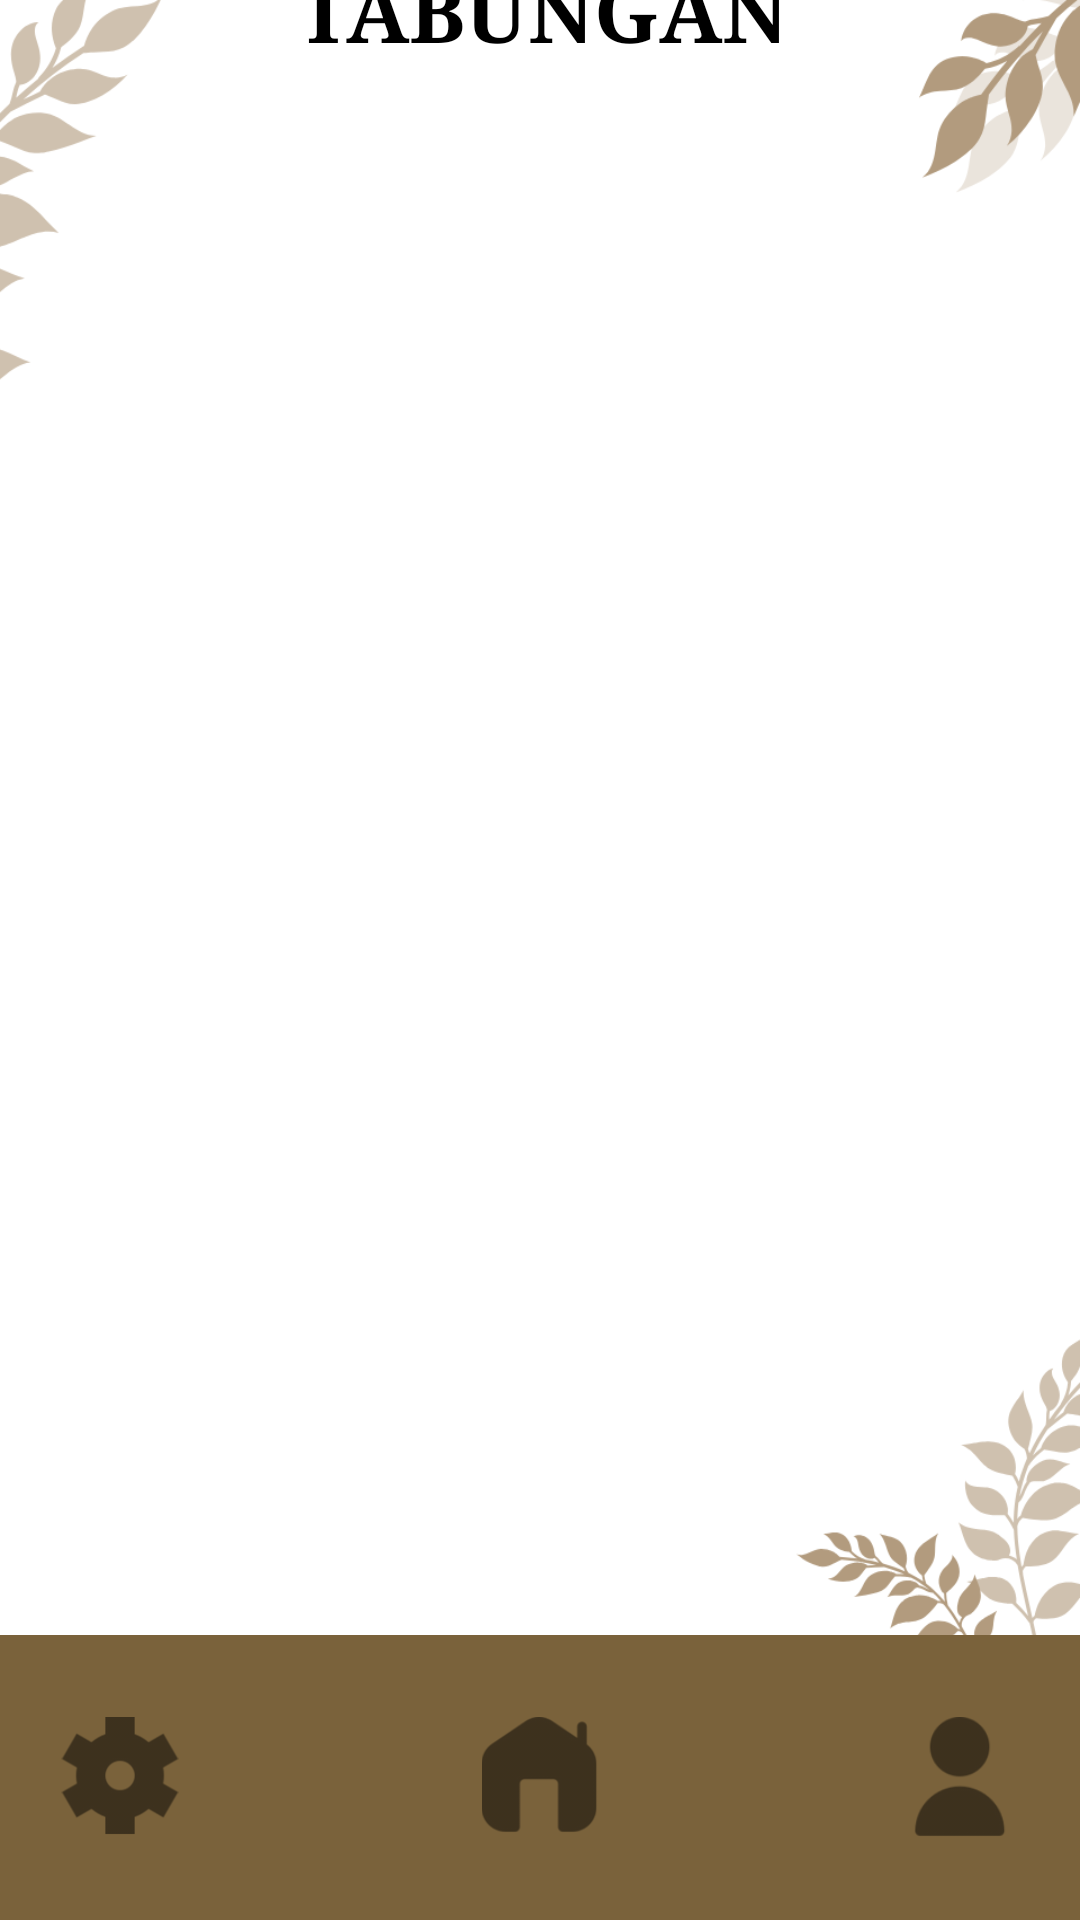

Named icons in this screenshot (1080x1920) and their bounding boxes, box=[x1, y1, x2, y2]:
Home Page: box=[482, 1717, 596, 1832]
